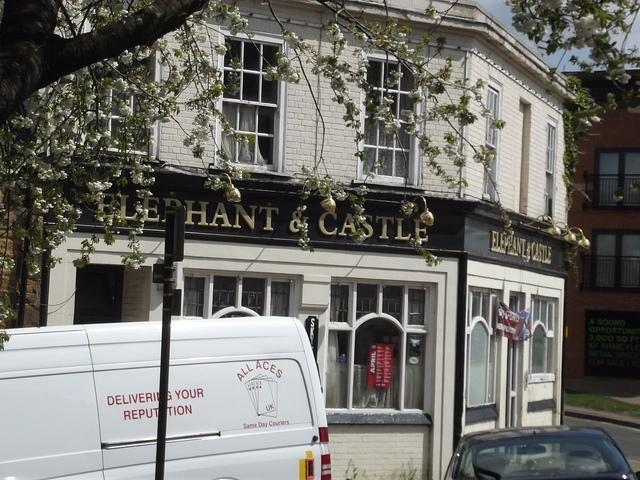car: (442, 426, 634, 475)
truck: (0, 316, 335, 474)
